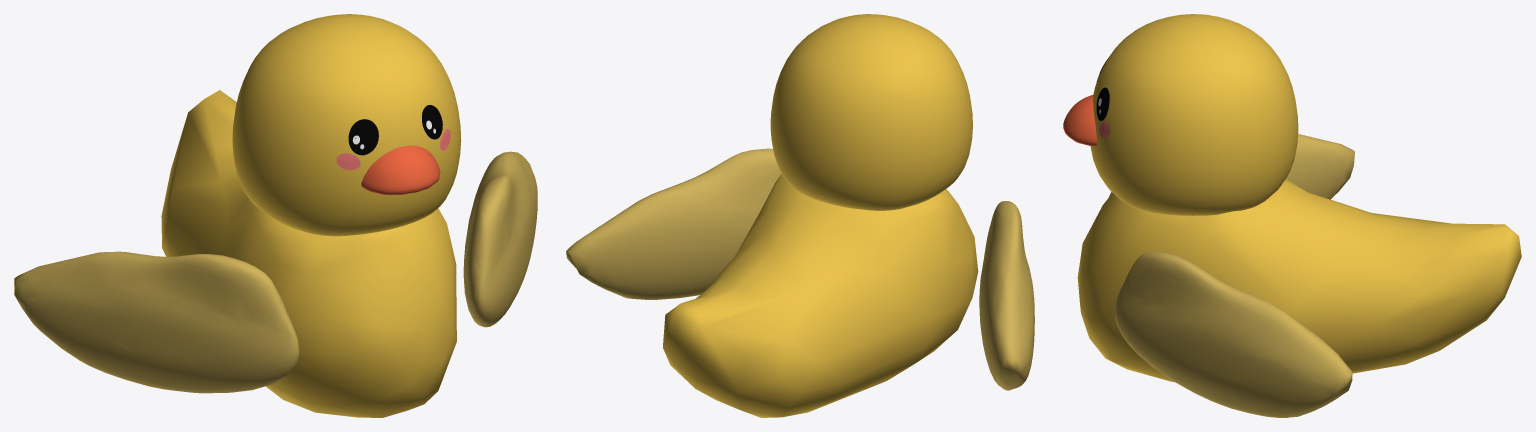
Rendered from Ducky.fbx.
The picture shows the model from 3 angles, left to right: view 1: azimuth 30°, elevation 25°; view 2: azimuth 150°, elevation 25°; view 3: azimuth 270°, elevation 25°; orthographic projection. The views are drawn at different scales.
Parts seen in each view (by area): view 1: Body, Cube.004, Wing Left, Wing Right, Roundcube.004, Plane.019, Plane.020; view 2: Body, Cube.004, Wing Right, Wing Left; view 3: Body, Cube.004, Wing Right, Wing Left, Roundcube.004.
Part boxes in pixels (bbox=[...]): Body: bbox=[161, 90, 456, 417]; Cube.004: bbox=[232, 14, 461, 236]; Wing Left: bbox=[14, 251, 299, 393]; Wing Right: bbox=[463, 151, 537, 327]; Roundcube.004: bbox=[361, 145, 440, 194]; Plane.019: bbox=[348, 119, 378, 155]; Plane.020: bbox=[422, 105, 442, 139]; Body: bbox=[663, 174, 978, 417]; Cube.004: bbox=[770, 14, 972, 210]; Wing Right: bbox=[566, 148, 781, 299]; Wing Left: bbox=[979, 201, 1034, 390]; Body: bbox=[1077, 179, 1521, 382]; Cube.004: bbox=[1090, 14, 1298, 215]; Wing Right: bbox=[1115, 251, 1352, 417]; Wing Left: bbox=[1109, 134, 1354, 199]; Roundcube.004: bbox=[1063, 95, 1097, 146].
Bounding box in the file's own units: 849 × 597 × 715.
